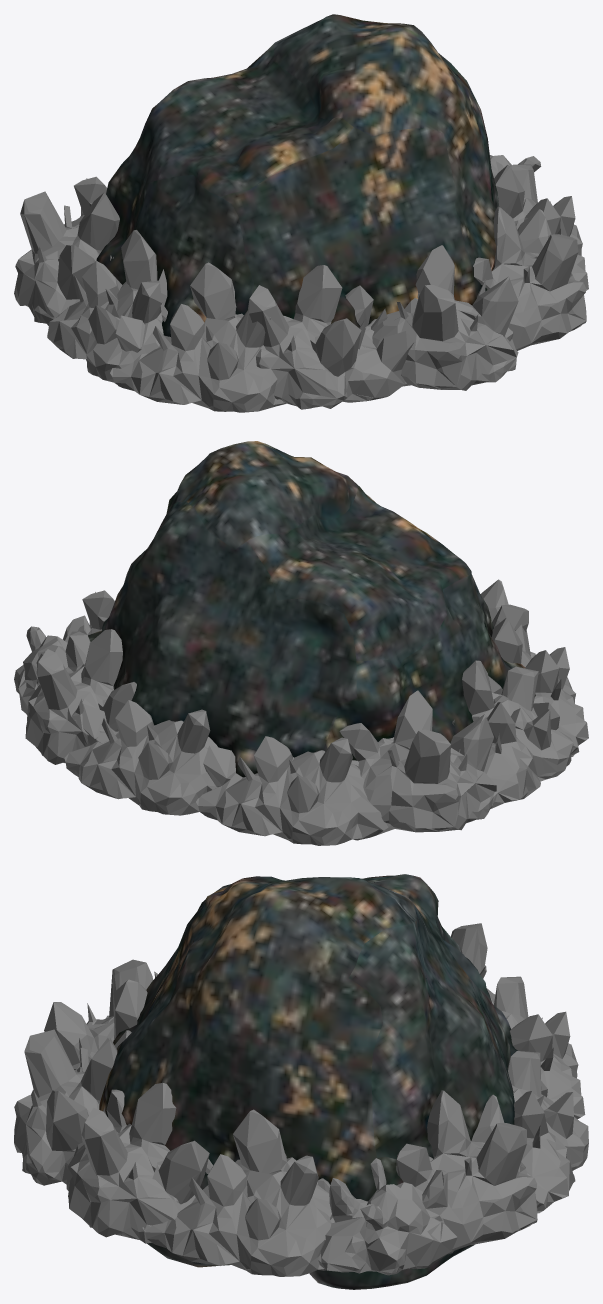
The model's file is SM_SkyIslandOre_c63f77.glb.
3 views of the same model, one above another, from view 1: azimuth 30°, elevation 25°; view 2: azimuth 150°, elevation 25°; view 3: azimuth 270°, elevation 25° (orthographic). The views are drawn at different scales.
Size of the model in its own units: 5.64 by 3.51 by 5.09.
Materials: 2 (2 with a texture image).
